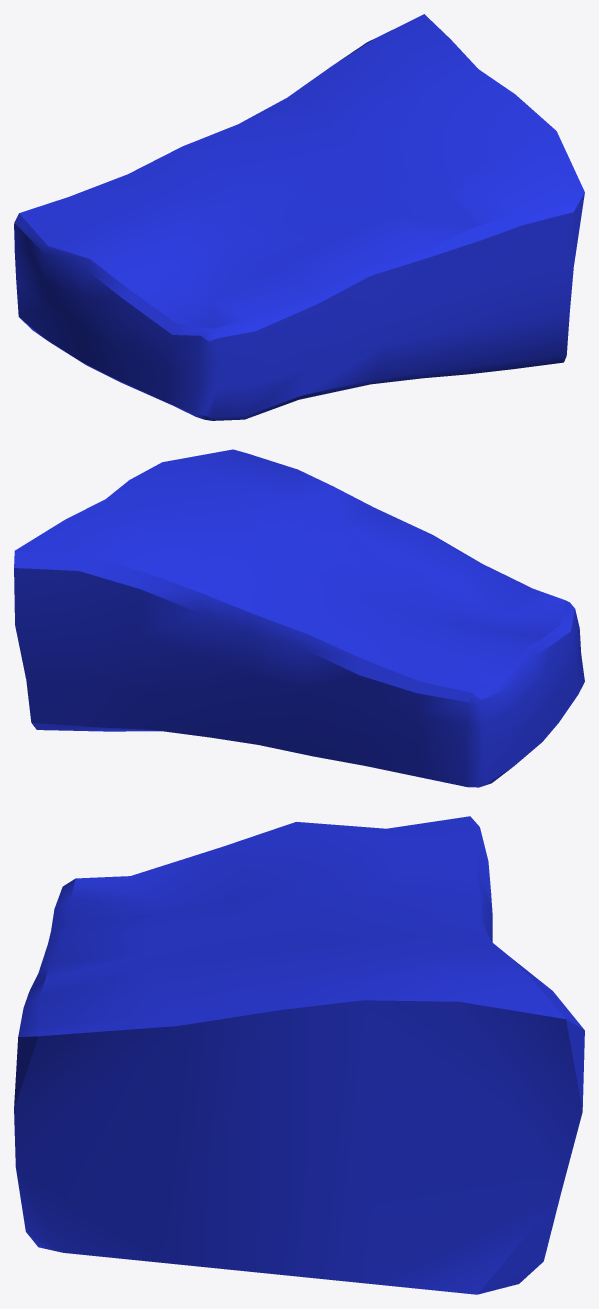
The model's file is veal_n3.1_low.fbx.
3 views of the same model, one above another, from view 1: azimuth 30°, elevation 25°; view 2: azimuth 150°, elevation 25°; view 3: azimuth 270°, elevation 25° (orthographic). The views are drawn at different scales.
Visible parts, largest first — view 1: veal__n3.1_low; view 2: veal__n3.1_low; view 3: veal__n3.1_low.
Part boxes in pixels (x1,y1,x2,y2): veal__n3.1_low: (14,14,584,420); veal__n3.1_low: (14,449,584,787); veal__n3.1_low: (14,816,584,1294).
Size of the model in its own units: 14.22 by 6.24 by 11.41.
